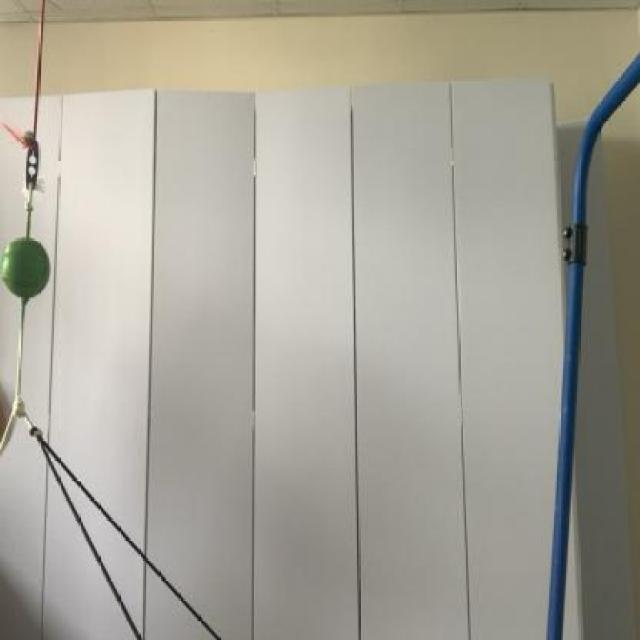baseball: (1, 238, 51, 300)
